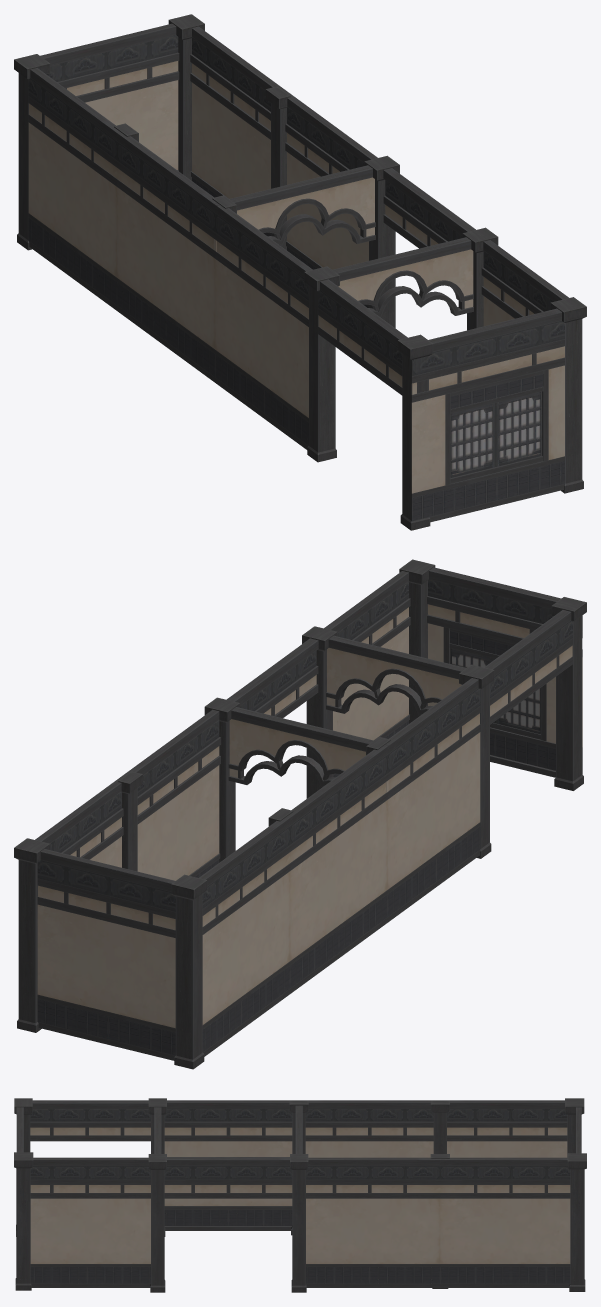
Rendered from Homeworld_Interior_Dq_Room_O_Wall_01_Vo.fbx.
3 views of the same model, one above another, from view 1: azimuth 30°, elevation 25°; view 2: azimuth 150°, elevation 25°; view 3: azimuth 270°, elevation 25° (orthographic). The views are drawn at different scales.
Visible parts, largest first — view 1: Homeworld_Interior_Dq_Room_Wall_01_Vo (×7), Homeworld_Interior_Dq_Room_Wall_02_Vo, Homeworld_Interior_Dq_Room_Pillar_01_Vo (×7), Homeworld_Interior_Dq_Room_Wall_03_Vo (×2), Homeworld_Interior_Dq_Room_Wall_04_Vo (×2), Homeworld_Interior_Dq_Room_O_Filling_01_Vo, Homeworld_Interior_Dq_Room_Pillar_02_Vo; view 2: Homeworld_Interior_Dq_Room_Wall_01_Vo (×7), Homeworld_Interior_Dq_Room_Pillar_01_Vo (×7), Homeworld_Interior_Dq_Room_Wall_02_Vo, Homeworld_Interior_Dq_Room_Wall_03_Vo (×2), Homeworld_Interior_Dq_Room_Wall_04_Vo (×2), Homeworld_Interior_Dq_Room_Pillar_02_Vo; view 3: Homeworld_Interior_Dq_Room_Wall_01_Vo (×7), Homeworld_Interior_Dq_Room_Wall_04_Vo (×2), Homeworld_Interior_Dq_Room_Pillar_01_Vo (×7), Homeworld_Interior_Dq_Room_Pillar_02_Vo (×2), Homeworld_Interior_Dq_Room_Wall_03_Vo (×2), Homeworld_Interior_Dq_Room_Wall_02_Vo.
Part boxes in pixels (left/top/right/bottom): Homeworld_Interior_Dq_Room_Wall_01_Vo (×7): left=28, top=23, right=568, bottom=449; Homeworld_Interior_Dq_Room_Wall_02_Vo: left=411, top=308, right=564, bottom=522; Homeworld_Interior_Dq_Room_Pillar_01_Vo (×7): left=14, top=14, right=586, bottom=530; Homeworld_Interior_Dq_Room_Wall_03_Vo (×2): left=213, top=165, right=473, bottom=317; Homeworld_Interior_Dq_Room_Wall_04_Vo (×2): left=318, top=168, right=475, bottom=402; Homeworld_Interior_Dq_Room_O_Filling_01_Vo: left=451, top=397, right=540, bottom=471; Homeworld_Interior_Dq_Room_Pillar_02_Vo: left=265, top=86, right=290, bottom=250; Homeworld_Interior_Dq_Room_Wall_01_Vo (×7): left=35, top=571, right=480, bottom=1060; Homeworld_Interior_Dq_Room_Pillar_01_Vo (×7): left=14, top=559, right=586, bottom=1069; Homeworld_Interior_Dq_Room_Wall_02_Vo: left=427, top=567, right=582, bottom=777; Homeworld_Interior_Dq_Room_Wall_03_Vo (×2): left=228, top=635, right=465, bottom=792; Homeworld_Interior_Dq_Room_Wall_04_Vo (×2): left=226, top=610, right=582, bottom=724; Homeworld_Interior_Dq_Room_Pillar_02_Vo: left=118, top=771, right=142, bottom=871; Homeworld_Interior_Dq_Room_Wall_01_Vo (×7): left=30, top=1100, right=581, bottom=1287; Homeworld_Interior_Dq_Room_Wall_04_Vo (×2): left=30, top=1100, right=292, bottom=1198; Homeworld_Interior_Dq_Room_Pillar_01_Vo (×7): left=14, top=1098, right=586, bottom=1292; Homeworld_Interior_Dq_Room_Pillar_02_Vo (×2): left=289, top=1100, right=449, bottom=1235; Homeworld_Interior_Dq_Room_Wall_03_Vo (×2): left=154, top=1105, right=302, bottom=1153; Homeworld_Interior_Dq_Room_Wall_02_Vo: left=16, top=1107, right=23, bottom=1152.
Size of what is drawn, in the model's own units: 5.33 by 5.12 by 20.28.
